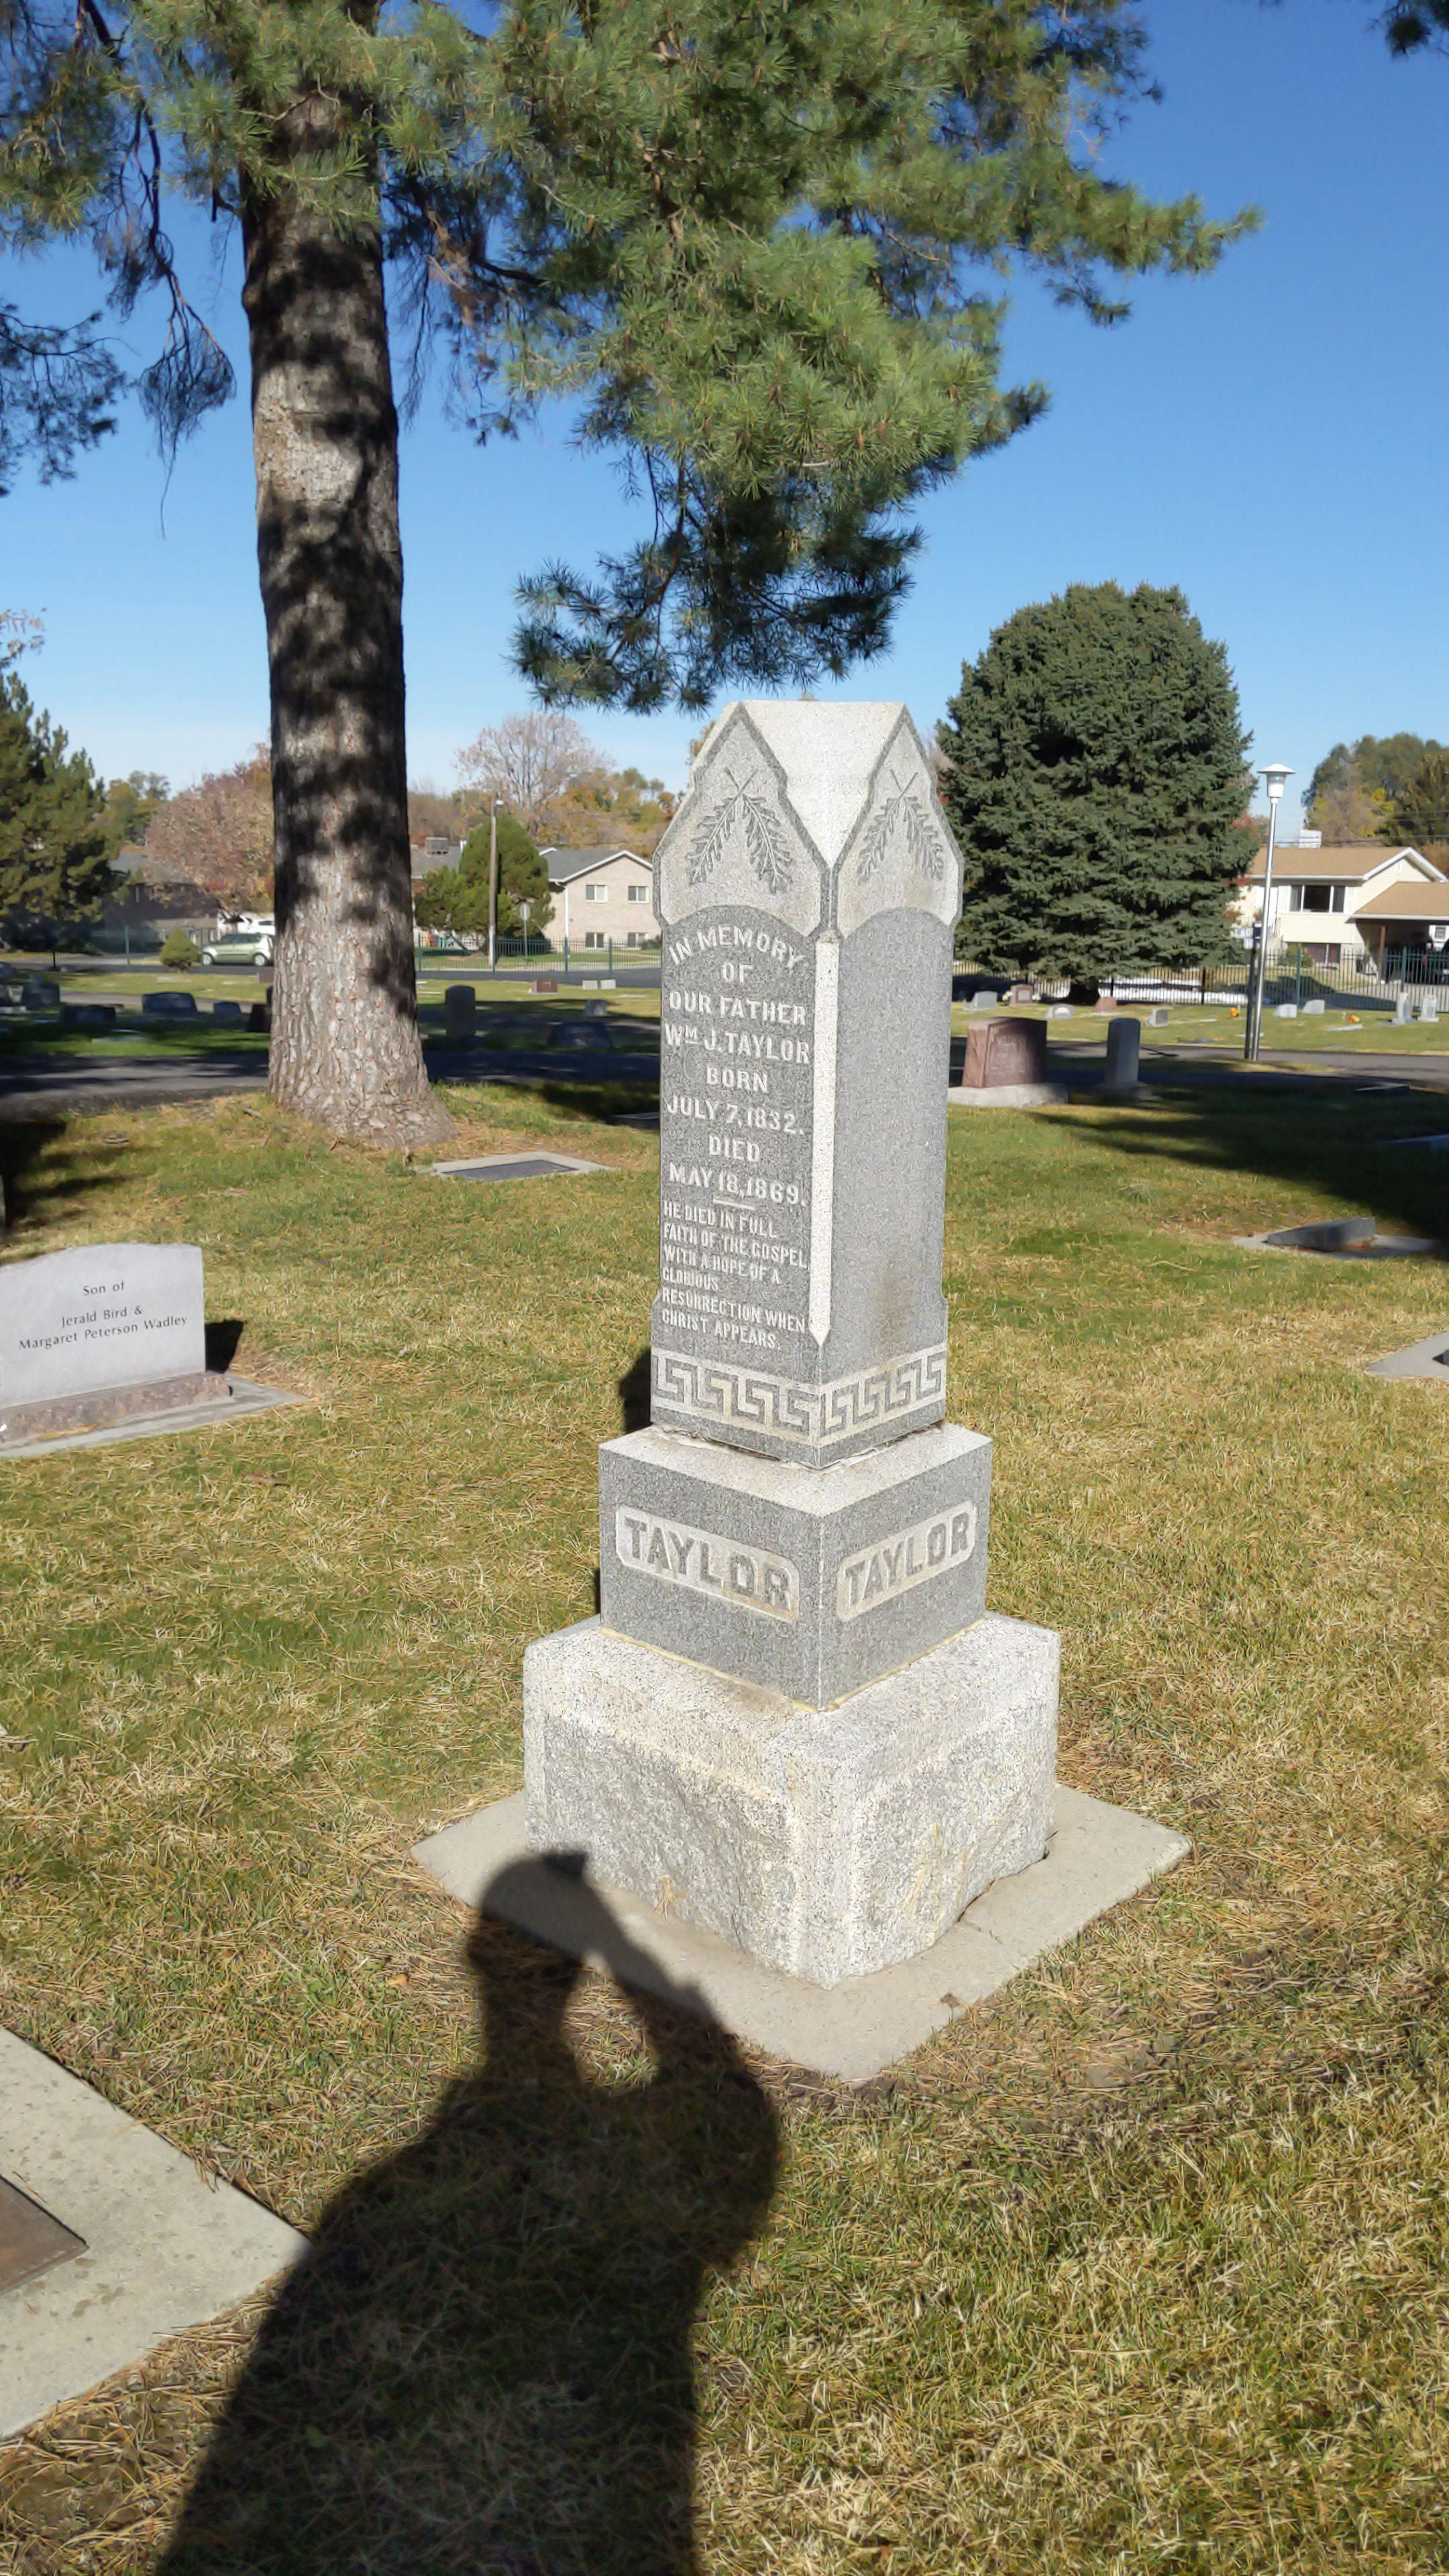obelisk: (600, 688, 993, 1690)
